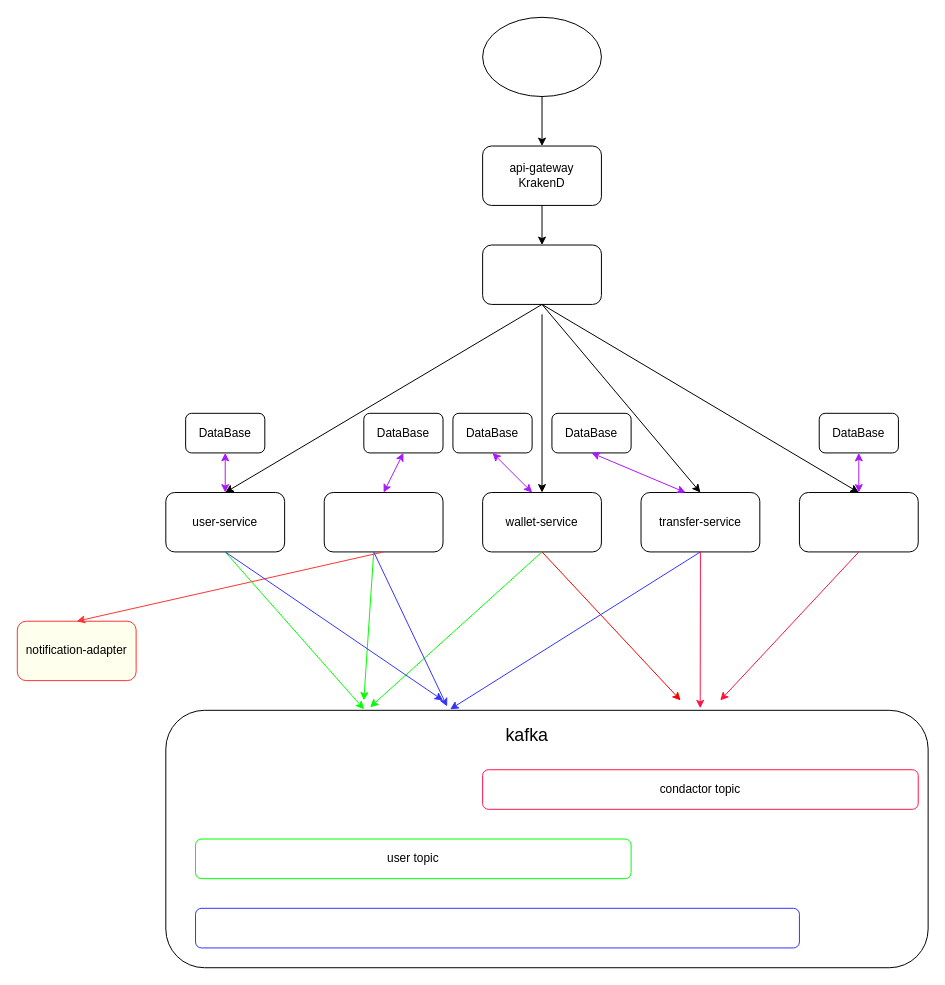
This 945x985 diagram has some shape labels left out. The shapes that lost their labels are listed below. From the top down, each one's centre as x and y in pixels, then its label:
At point (541, 56): "customer".
At point (541, 274): "bff-service".
At point (383, 522): "notification-service".
At point (858, 522): "item-servese".
At point (497, 927): "notification topic".
